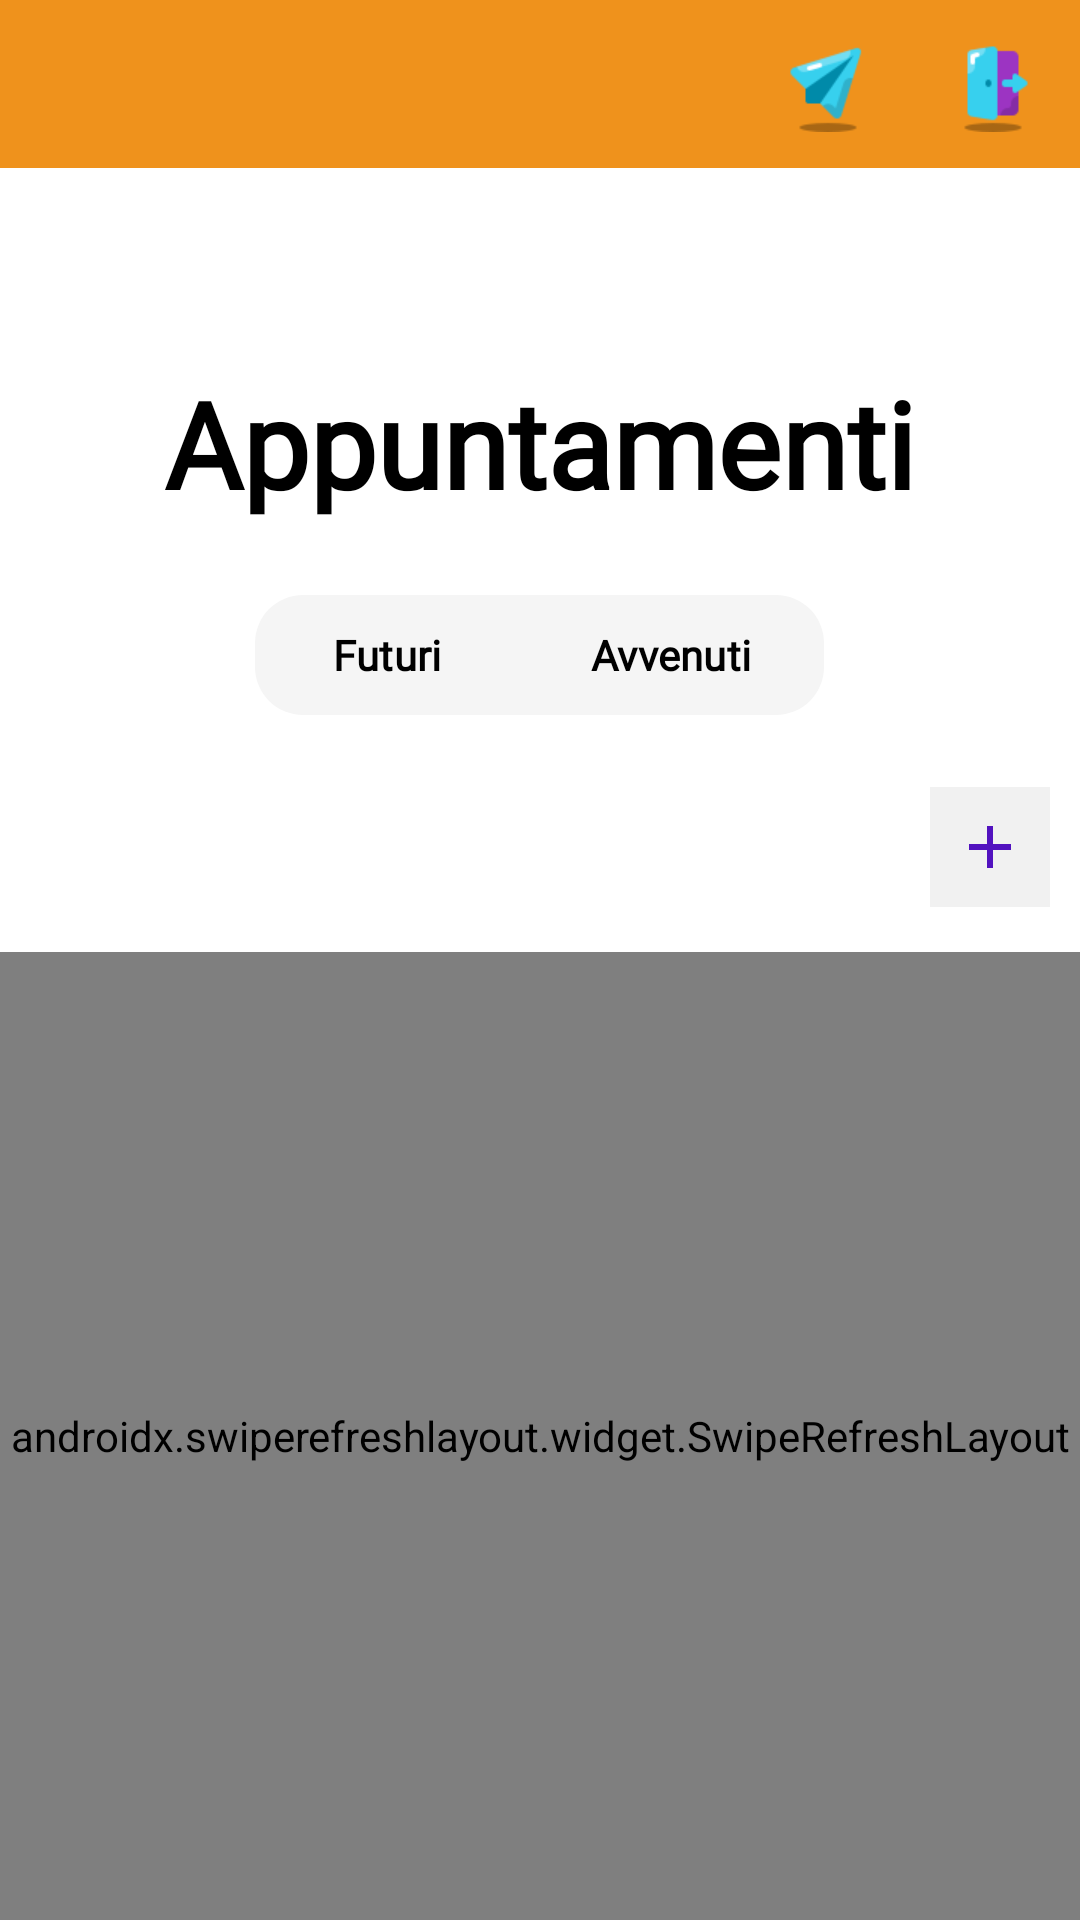

Icons on this 1080x1920 Android screen, each with its box as BBox(x1, y1, x2, y2):
add patient: BBox(930, 787, 1050, 907)
